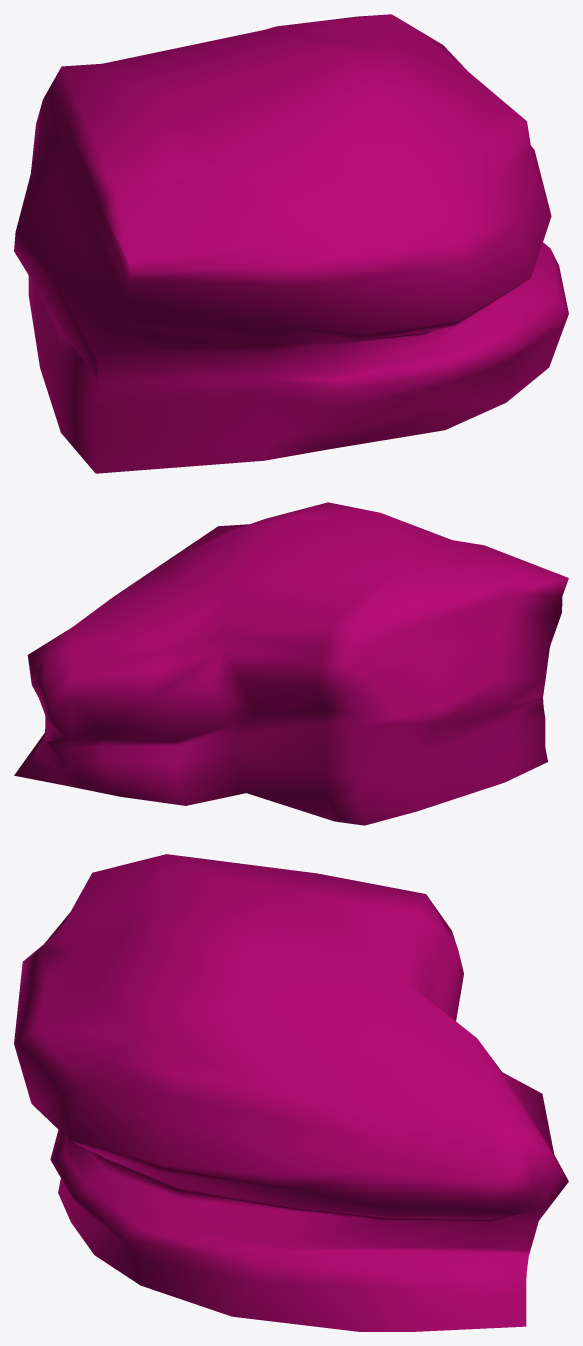
File: LargeRock_04.fbx
3 views of the same model, one above another, from view 1: azimuth 30°, elevation 25°; view 2: azimuth 150°, elevation 25°; view 3: azimuth 270°, elevation 25° (orthographic). The views are drawn at different scales.
Visible parts, largest first — view 1: LargeRock_04; view 2: LargeRock_04; view 3: LargeRock_04.
Part boxes in pixels (x1,y1,x2,y2): LargeRock_04: (14, 14, 568, 473); LargeRock_04: (14, 502, 568, 825); LargeRock_04: (14, 854, 568, 1331).
Bounding box in the file's own units: 1363 × 726 × 1299.
